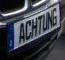A: (19, 23, 25, 42)
C: (25, 19, 31, 40)
G: (53, 8, 58, 26)
H: (32, 17, 37, 37)
N: (48, 10, 53, 29)
T: (38, 14, 43, 34)
U: (43, 12, 48, 31)
